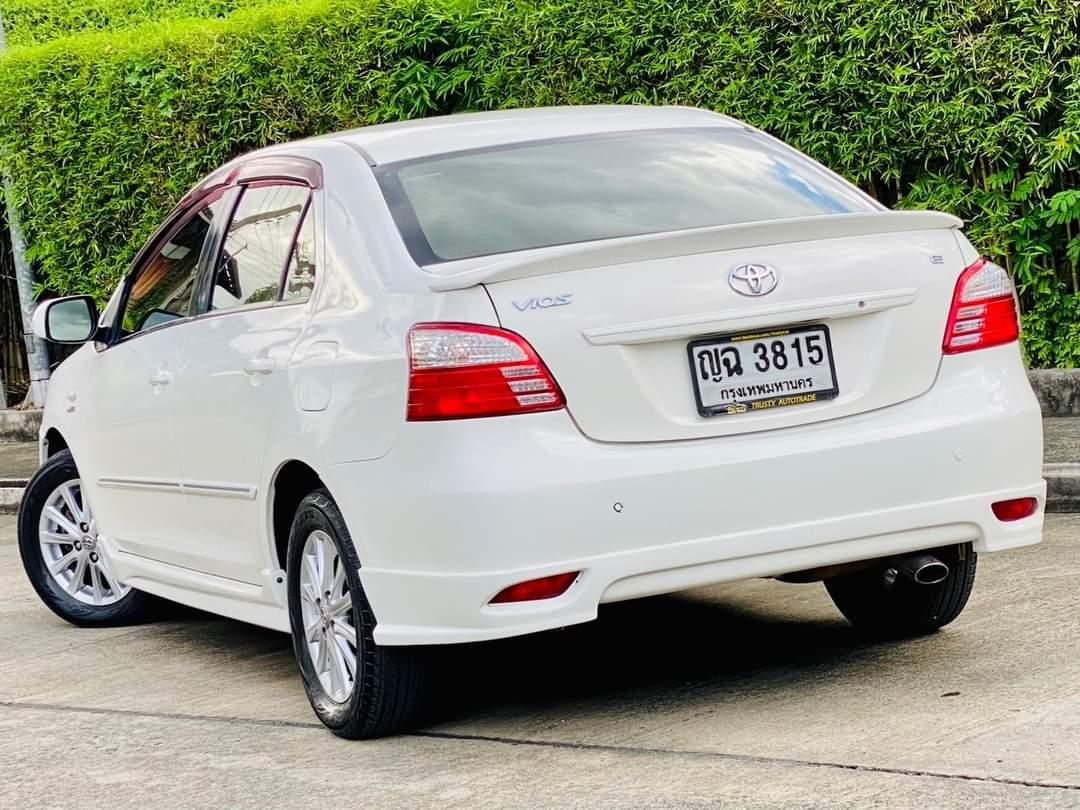license-plate: (683, 318, 843, 432)
